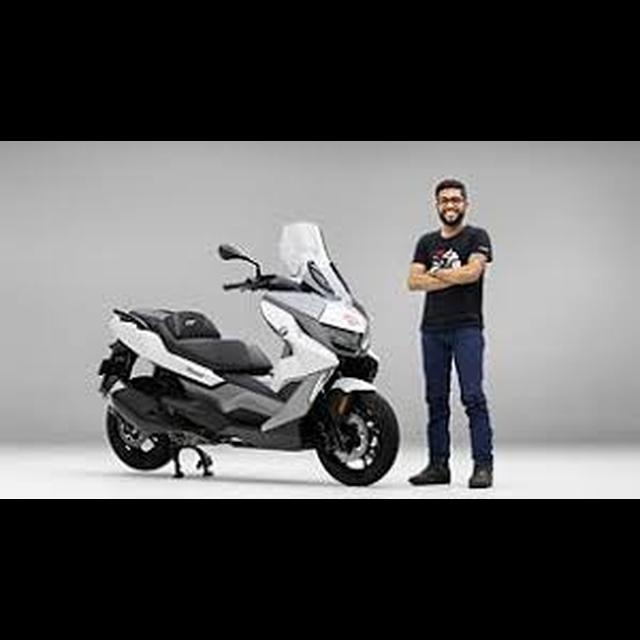motorcycle: (91, 217, 405, 489)
